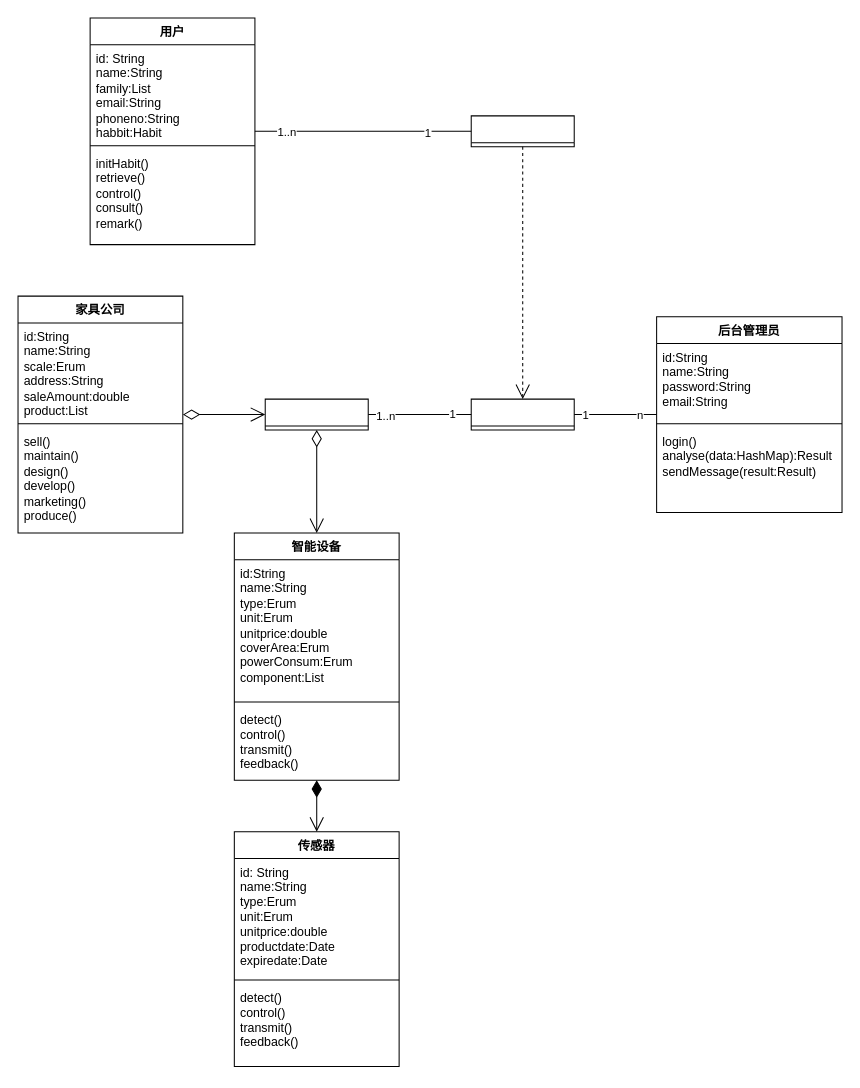
Image size: 860x1088. Some labels were removed from this diagram. The shapes that lost their labels are listed below. From the top down, each one's centre as x and y in pixels, then its label:
At [522,131]: "用户界面".
At [316,414]: "智能家居".
At [522,414]: "控制中心".
